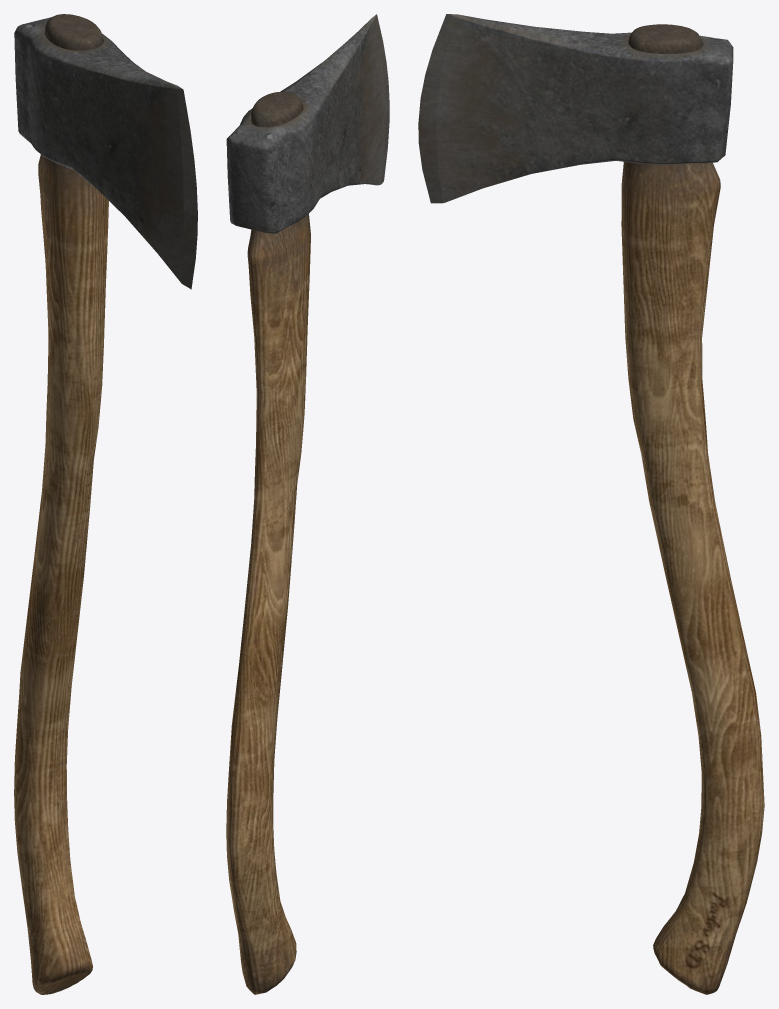
Rendered from wooden_axe_02.glb.
The picture shows the model from 3 angles, left to right: view 1: azimuth 30°, elevation 25°; view 2: azimuth 150°, elevation 25°; view 3: azimuth 270°, elevation 25°; orthographic projection. The views are drawn at different scales.
Parts seen in each view (by area): view 1: wooden_axe_02; view 2: wooden_axe_02; view 3: wooden_axe_02.
Part boxes in pixels (bbox=[...]): wooden_axe_02: bbox=[14, 14, 197, 994]; wooden_axe_02: bbox=[226, 14, 389, 994]; wooden_axe_02: bbox=[418, 14, 764, 994].
Bounding box in the file's own units: 0.0509 × 0.7042 × 0.2257.
1 material, 1 textured.
